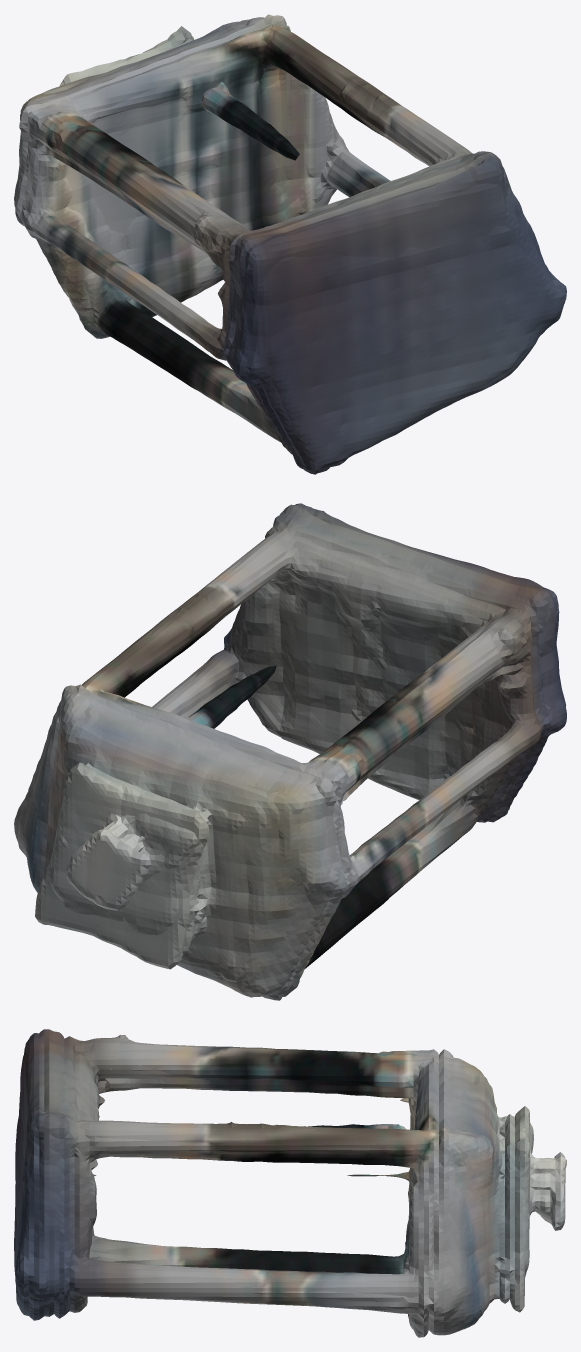
The model's file is lantern-1-df16671b5965.glb.
3 views of the same model, one above another, from view 1: azimuth 30°, elevation 25°; view 2: azimuth 150°, elevation 25°; view 3: azimuth 270°, elevation 25° (orthographic). The views are drawn at different scales.
Parts seen in each view (by area): view 1: world; view 2: world; view 3: world.
Boxes of the visible parts, x1,y1,x2,y2 form: world: (14,14,566,474); world: (14,503,566,1000); world: (14,1029,566,1337).
Size of the model in its own units: 0.6403 by 0.5257 by 0.9953.
